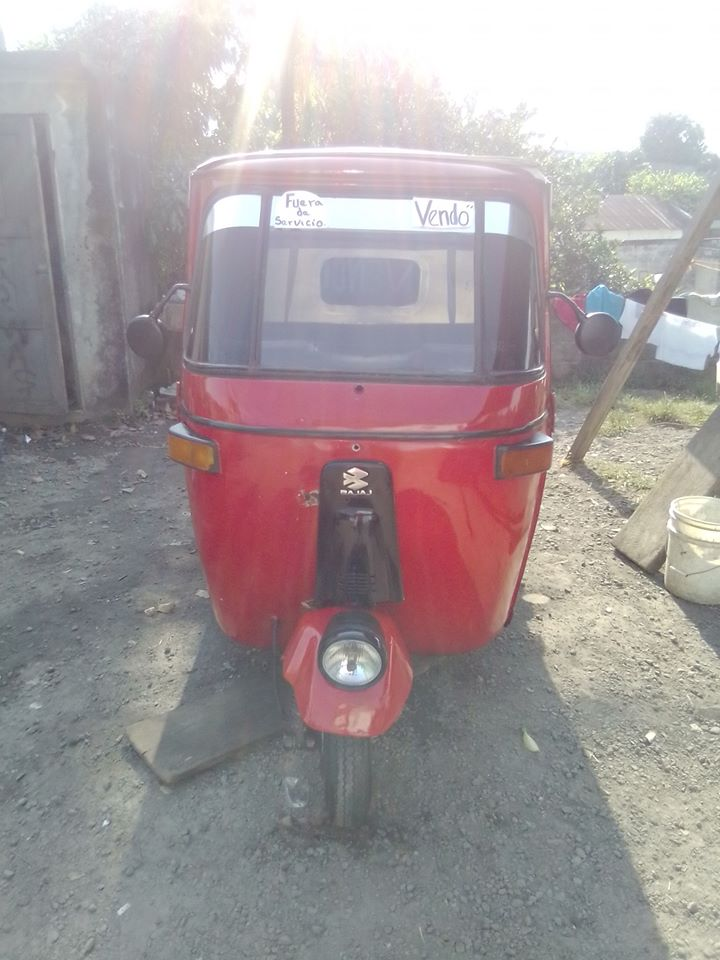mototaxi: (123, 145, 619, 845)
